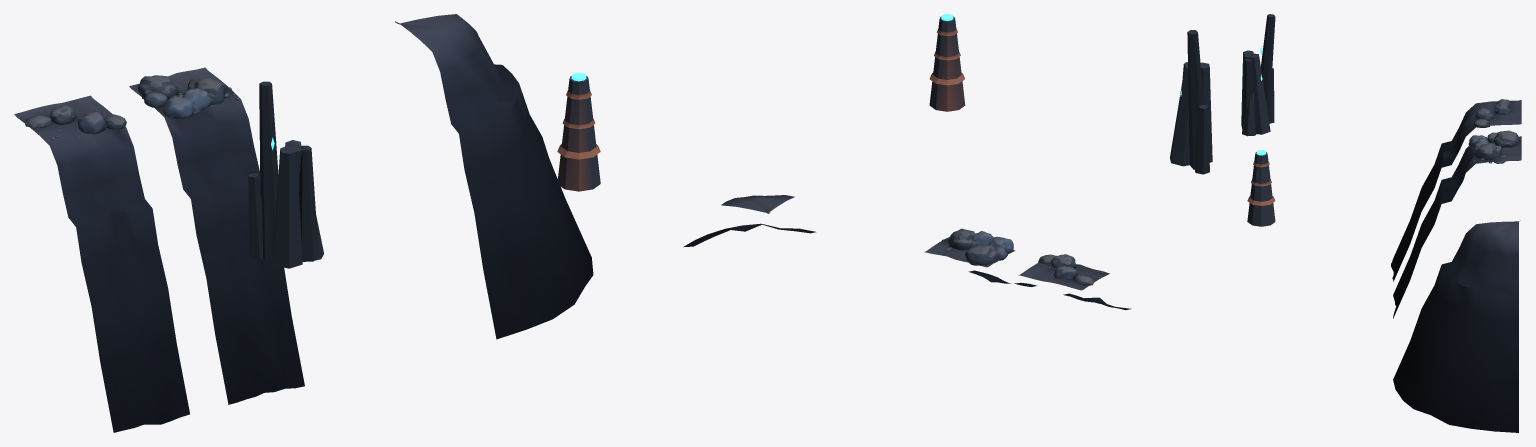
File: map_backdrop_3.glb
3 views of the same model, side by side, from view 1: azimuth 30°, elevation 25°; view 2: azimuth 150°, elevation 25°; view 3: azimuth 270°, elevation 25° (orthographic). The views are drawn at different scales.
Visible parts, largest first — view 1: Corner, Edge1, Edge2, Spires, Chimney; view 2: Spires, Chimney, Edge2, Edge1, Corner; view 3: Corner, Edge2, Edge1, Spires, Chimney.
Part boxes in pixels (<box>): Corner: <box>395,14,593,339</box>; Edge1: <box>14,95,189,432</box>; Edge2: <box>129,67,304,404</box>; Spires: <box>248,81,323,268</box>; Chimney: <box>557,72,600,191</box>; Spires: <box>1170,30,1212,174</box>; Chimney: <box>929,14,965,111</box>; Edge2: <box>924,228,1037,286</box>; Edge1: <box>1018,254,1131,310</box>; Corner: <box>683,195,815,247</box>; Corner: <box>1393,220,1520,432</box>; Edge2: <box>1393,130,1521,318</box>; Edge1: <box>1391,99,1521,281</box>; Spires: <box>1241,14,1275,136</box>; Chimney: <box>1247,150,1275,226</box>.
Bounding box in the file's own units: 14.43 × 10.2 × 9.81.
